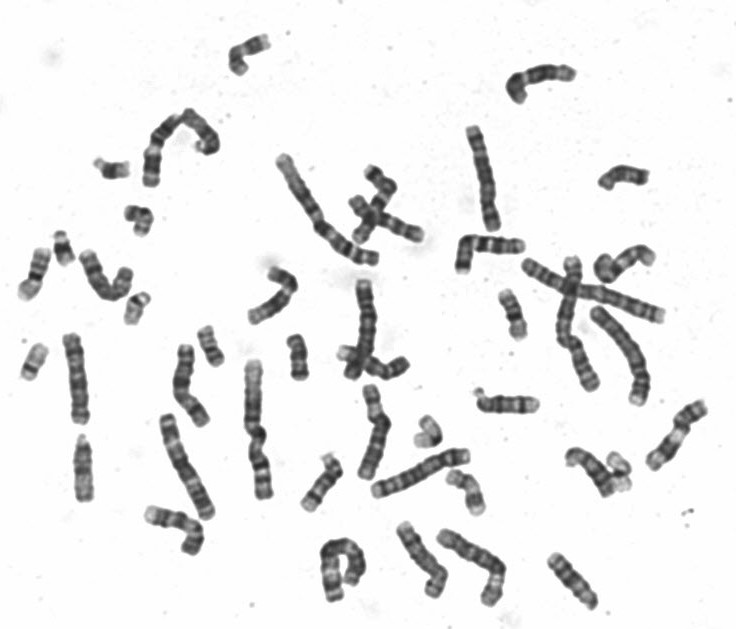chromosomes: (272, 142, 385, 271), (516, 256, 672, 331), (153, 405, 220, 526), (551, 247, 604, 397), (432, 522, 513, 614), (587, 304, 656, 410), (365, 443, 476, 503), (238, 352, 281, 505), (389, 515, 454, 607), (457, 117, 507, 235), (643, 395, 714, 474), (349, 378, 398, 482), (346, 191, 429, 250), (350, 158, 405, 247), (341, 270, 383, 385), (242, 258, 310, 329), (163, 339, 215, 431), (137, 499, 211, 562), (316, 531, 374, 609), (449, 228, 536, 280), (214, 18, 277, 87), (545, 544, 605, 615), (593, 236, 669, 292), (329, 335, 415, 384), (138, 104, 184, 194), (499, 59, 585, 107), (77, 243, 142, 304), (59, 322, 94, 435), (299, 446, 354, 517), (465, 380, 547, 423), (65, 427, 105, 510), (176, 100, 229, 162), (561, 444, 618, 500), (593, 158, 658, 201), (15, 238, 56, 306), (444, 468, 490, 522), (495, 286, 534, 343), (116, 197, 163, 242), (282, 330, 317, 385), (15, 336, 53, 385), (603, 449, 639, 498), (407, 408, 448, 451), (195, 320, 229, 370), (48, 219, 77, 275), (121, 285, 157, 330), (88, 154, 136, 182)
